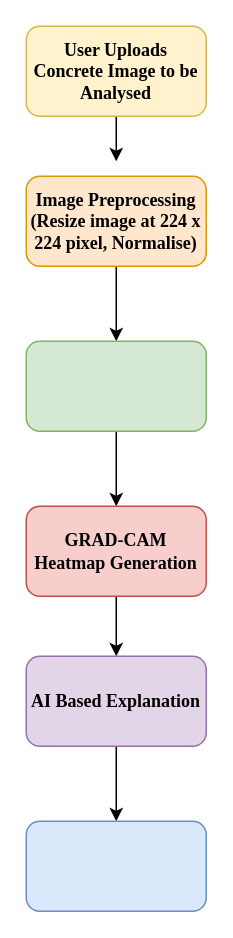
Image size: 233x938. Some labels were removed from this diagram. The box of each missing label's shape, as (x1, y1, x2, y2) in pixels:
MobileNet + CBAM Attention (Ineference): (25, 340, 206, 431)
Result Displayed + Report Download Option: (25, 820, 206, 911)
